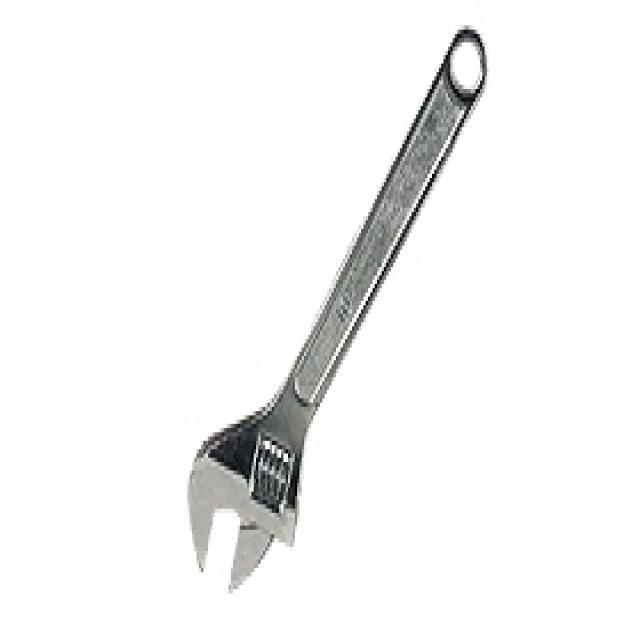wrench: (186, 19, 488, 601)
